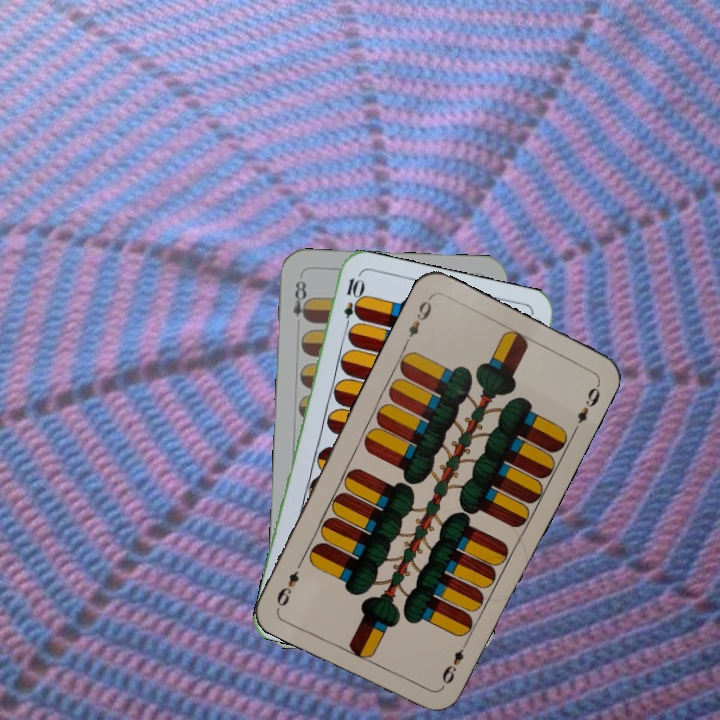E10: (339, 274, 364, 333)
E8: (289, 276, 312, 324)
E9: (400, 294, 435, 348), (437, 637, 471, 687)
